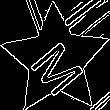M_NE: (23, 26, 89, 93)
